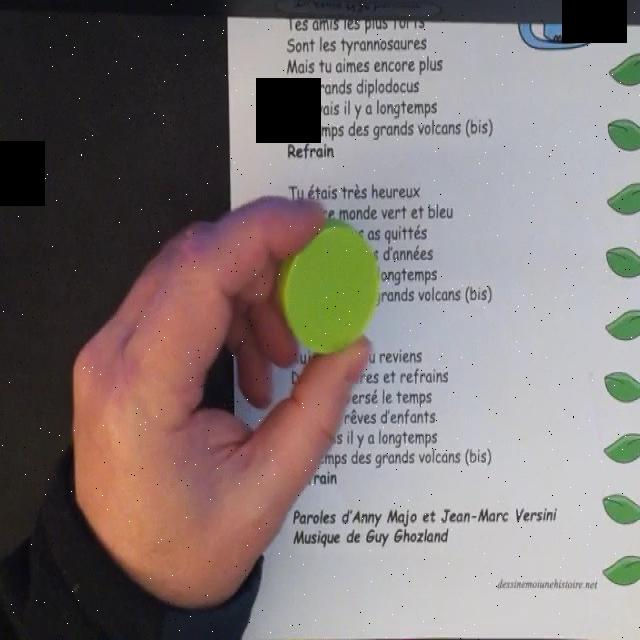round: (279, 219, 379, 356)
